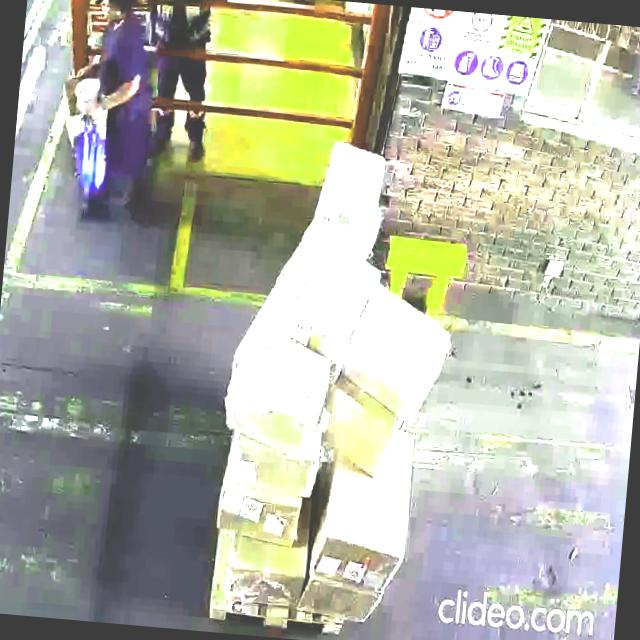Box: (220, 327, 330, 462), (346, 294, 450, 410), (318, 462, 411, 590), (292, 232, 363, 346), (320, 377, 397, 477), (314, 135, 386, 239), (227, 536, 311, 614), (216, 483, 304, 553), (228, 439, 320, 497), (301, 576, 382, 626)
